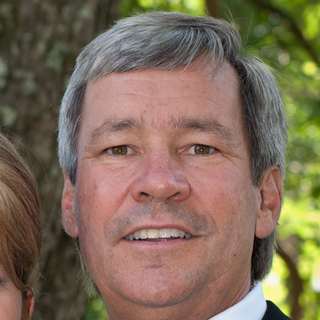eye: (175, 139, 225, 162), (95, 139, 142, 163)
